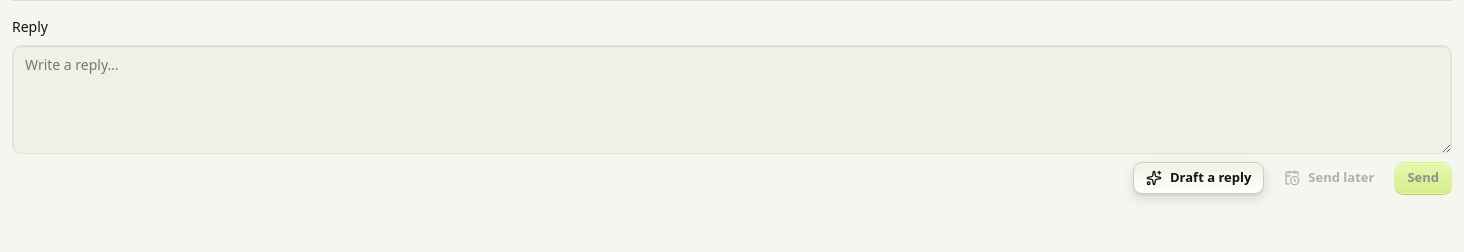
Test: a 409 shows the suppressed/no-inbound-message message, not a generic failure
The image size is (1464, 252).
Type "hello there" into the text box labelled "Reply" at (732, 100), box [12, 45, 1452, 154]
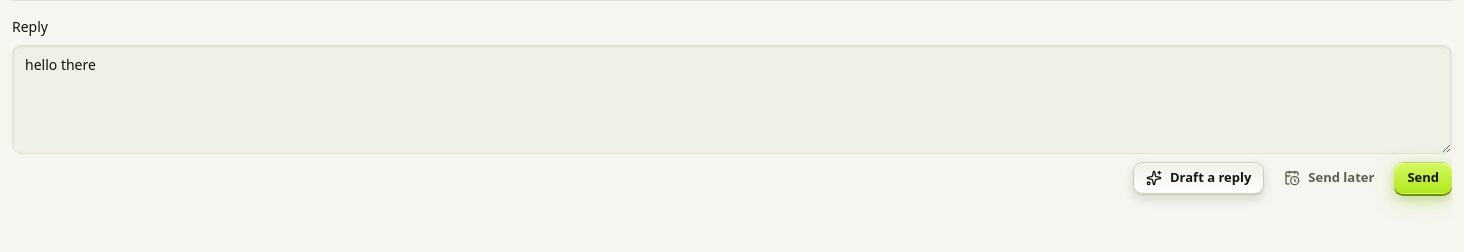
Click the button "Send" at (1423, 178), box [1394, 162, 1452, 194]
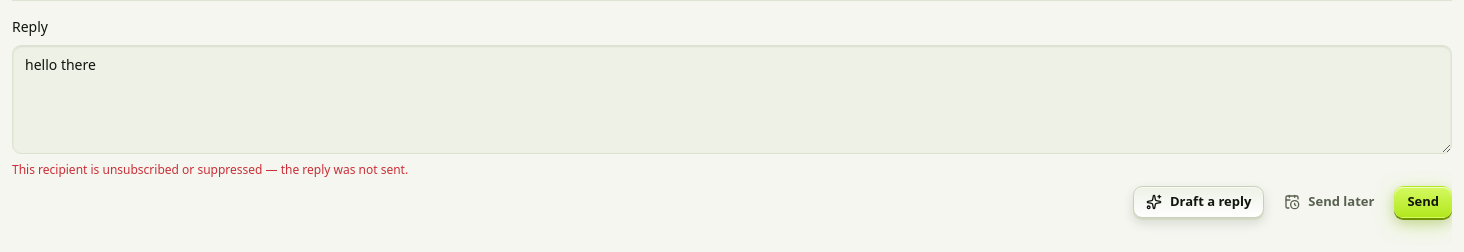
Result: the message shows "unsubscribed or suppressed — the reply was not sent" at [12, 161, 408, 178]
